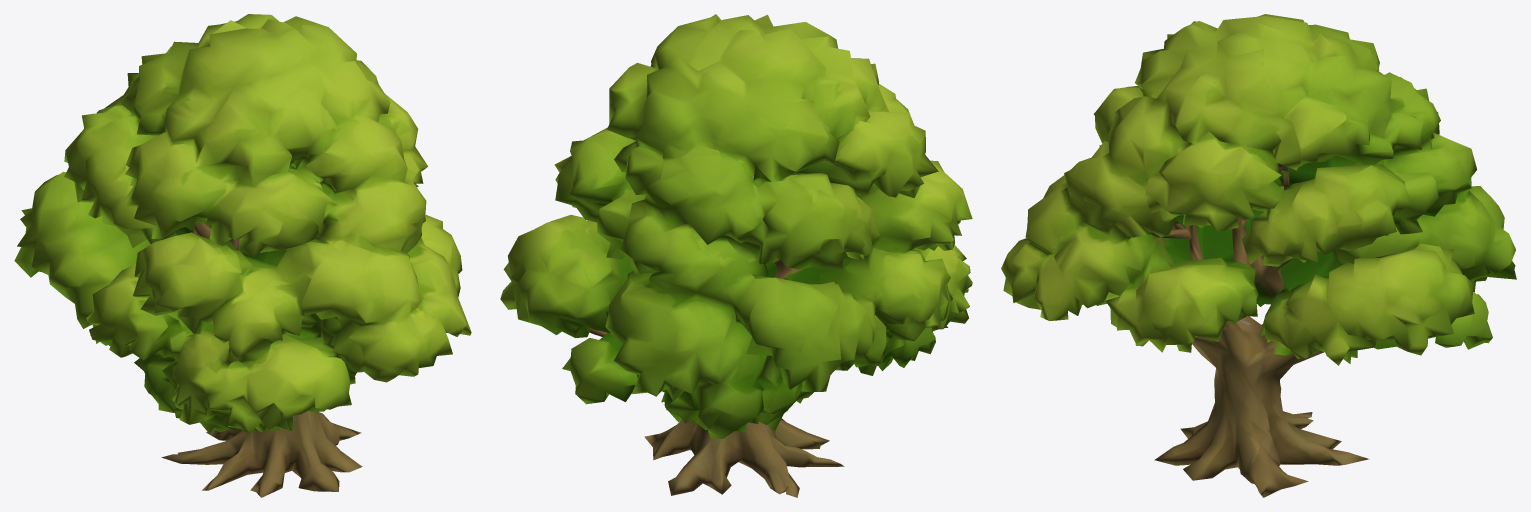
Rendered from oak_tree.fbx.
3 views of the same model, side by side, from view 1: azimuth 30°, elevation 25°; view 2: azimuth 150°, elevation 25°; view 3: azimuth 270°, elevation 25° (orthographic).
Parts seen in each view (by area): view 1: tripo_node_1e356ca8; view 2: tripo_node_1e356ca8; view 3: tripo_node_1e356ca8.
Boxes of the visible parts, bbox=[...] form: tripo_node_1e356ca8: bbox=[14, 14, 471, 497]; tripo_node_1e356ca8: bbox=[500, 14, 972, 497]; tripo_node_1e356ca8: bbox=[1001, 14, 1516, 497].
Size of the model in its own units: 0.7604 by 0.8895 by 0.974.
